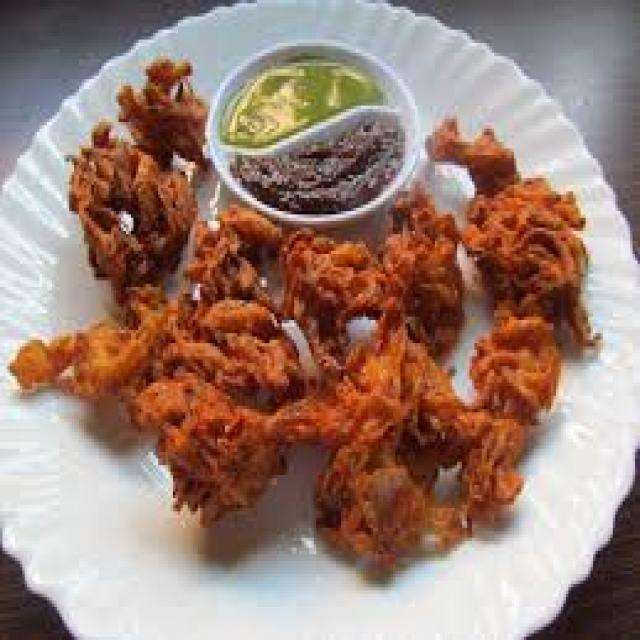BAJI: (13, 53, 596, 571)
